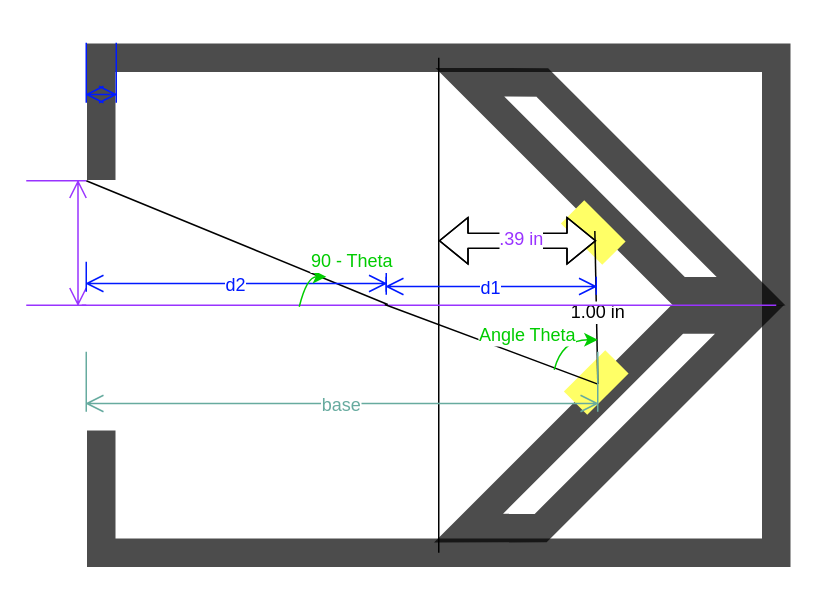
Image size: 816x611. Some labels were removed from this diagram. Each missing label, with the box of its shape:
.25 in: (85, 41, 116, 103)
height: (25, 179, 86, 305)
